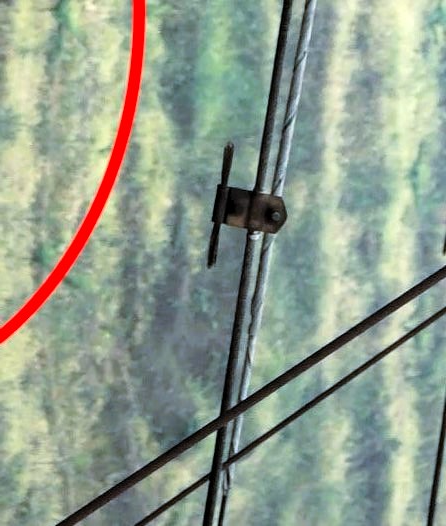Damage of shockproof hammer: (196, 133, 306, 281)
